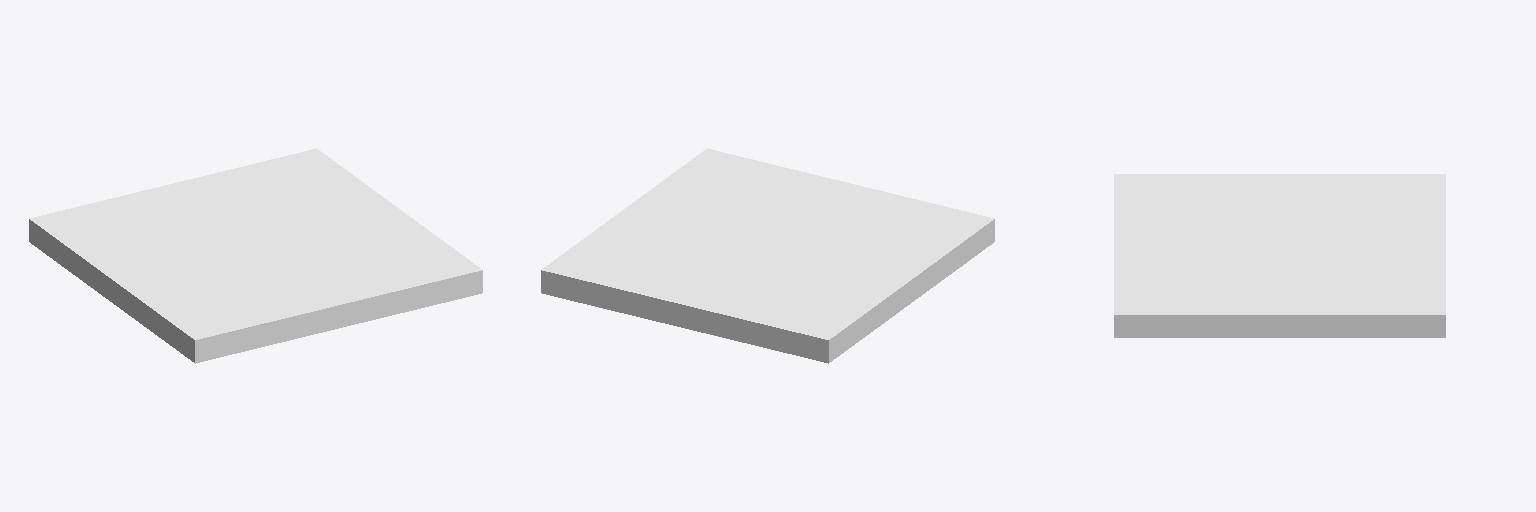
The model's file is inersect4.obj.
3 renders of one model, left to right at view 1: azimuth 30°, elevation 25°; view 2: azimuth 150°, elevation 25°; view 3: azimuth 270°, elevation 25°, orthographic.
Parts seen in each view (by area): view 1: object 1; view 2: object 1; view 3: object 1.
Part boxes in pixels (x1,y1,x2,y2): object 1: (29,148,482,363); object 1: (541,148,994,363); object 1: (1114,174,1445,337).
Bounding box in the file's own units: 2.6 × 0.2 × 2.6.